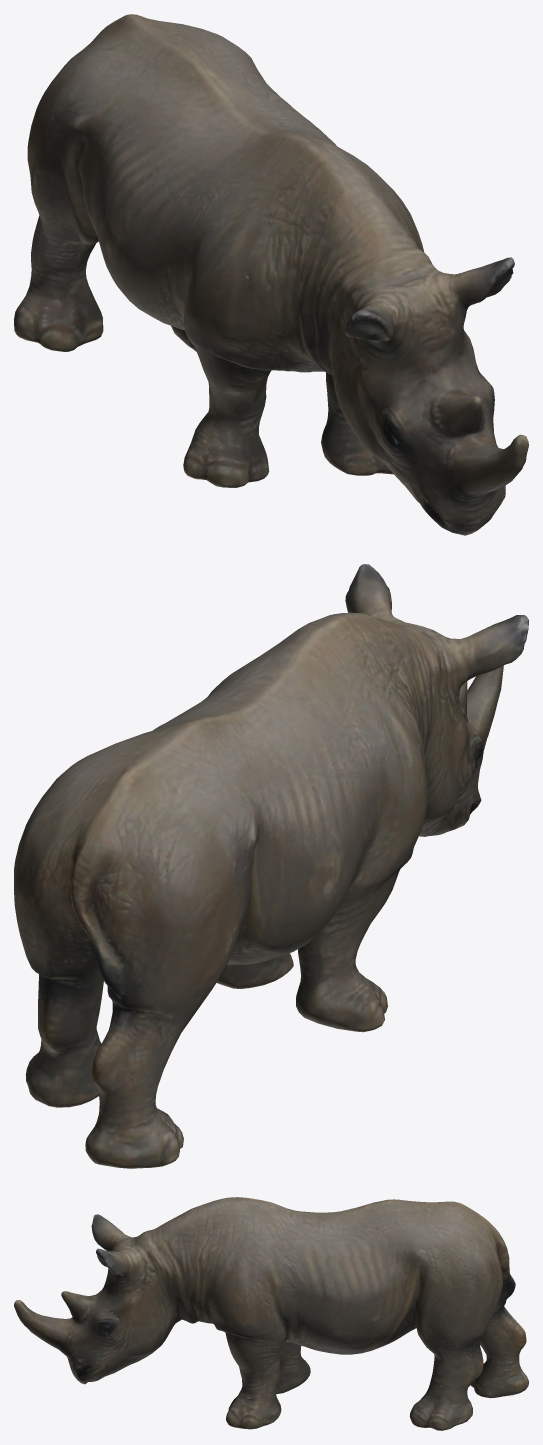
File: Schleich_African_Black_Rhino.glb
3 views of the same model, one above another, from view 1: azimuth 30°, elevation 25°; view 2: azimuth 150°, elevation 25°; view 3: azimuth 270°, elevation 25° (orthographic). The views are drawn at different scales.
Parts seen in each view (by area): view 1: Schleich_African_Black_Rhino; view 2: Schleich_African_Black_Rhino; view 3: Schleich_African_Black_Rhino.
Part boxes in pixels (box(x1,y1,x2,y2)): Schleich_African_Black_Rhino: box(14, 14, 528, 535); Schleich_African_Black_Rhino: box(14, 564, 528, 1168); Schleich_African_Black_Rhino: box(14, 1197, 528, 1430).
Size of the model in its own units: 0.0411 by 0.0601 by 0.1375.
Materials: 1 (1 with a texture image).
